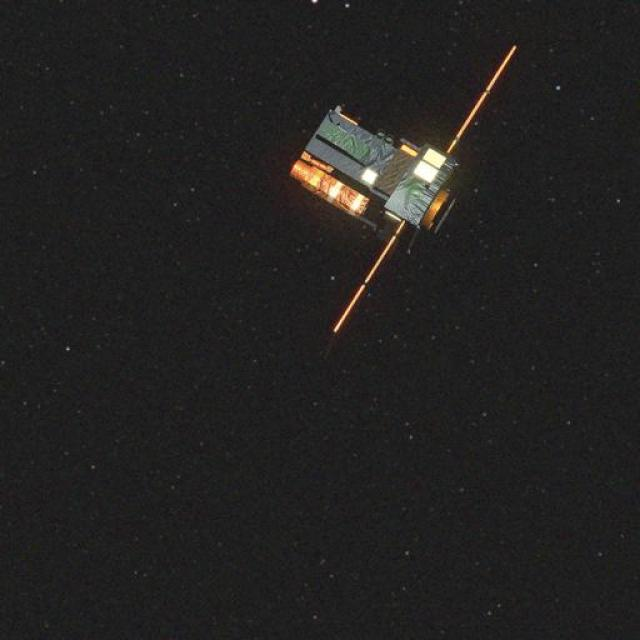soho: (232, 45, 520, 338)
